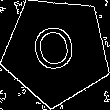O_S: (30, 21, 83, 81)
